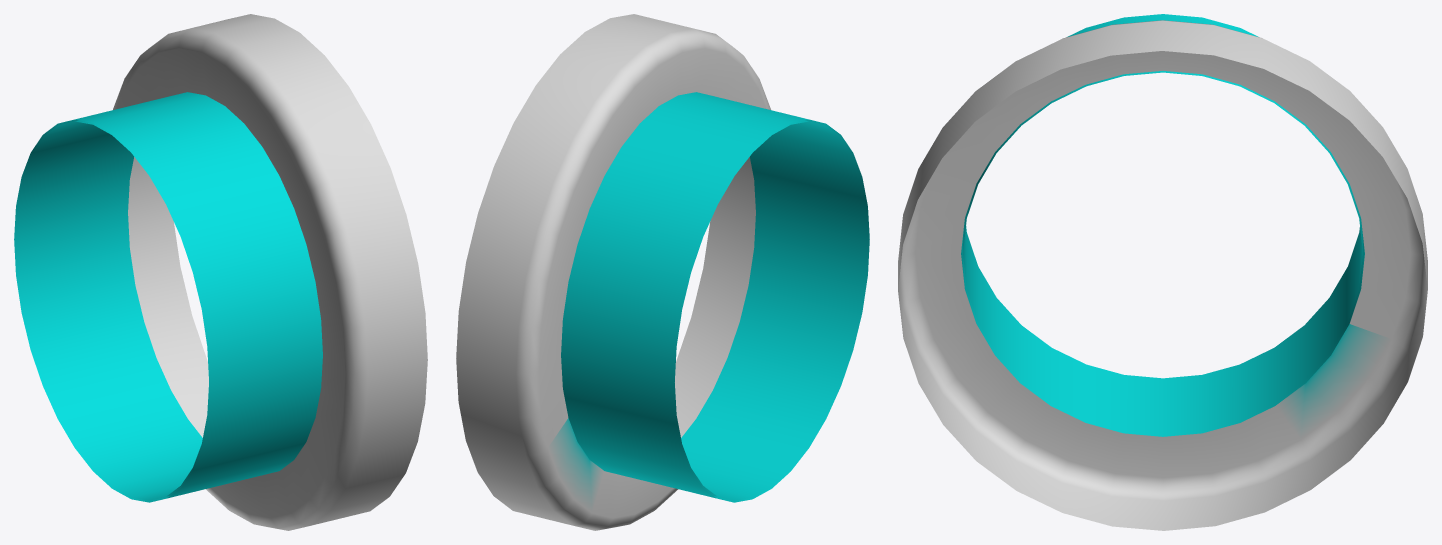
File: FluidConnector_LOD0.fbx
3 renders of one model, left to right at view 1: azimuth 30°, elevation 25°; view 2: azimuth 150°, elevation 25°; view 3: azimuth 270°, elevation 25°, orthographic. The views are drawn at different scales.
Parts seen in each view (by area): view 1: FluidConnector_Right; view 2: FluidConnector_Right; view 3: FluidConnector_Right.
Part boxes in pixels (x1,y1,x2,y2): FluidConnector_Right: (14, 14, 427, 530); FluidConnector_Right: (456, 14, 869, 530); FluidConnector_Right: (898, 14, 1427, 530).
Bounding box in the file's own units: 0.164 × 0.3896 × 0.3896.
